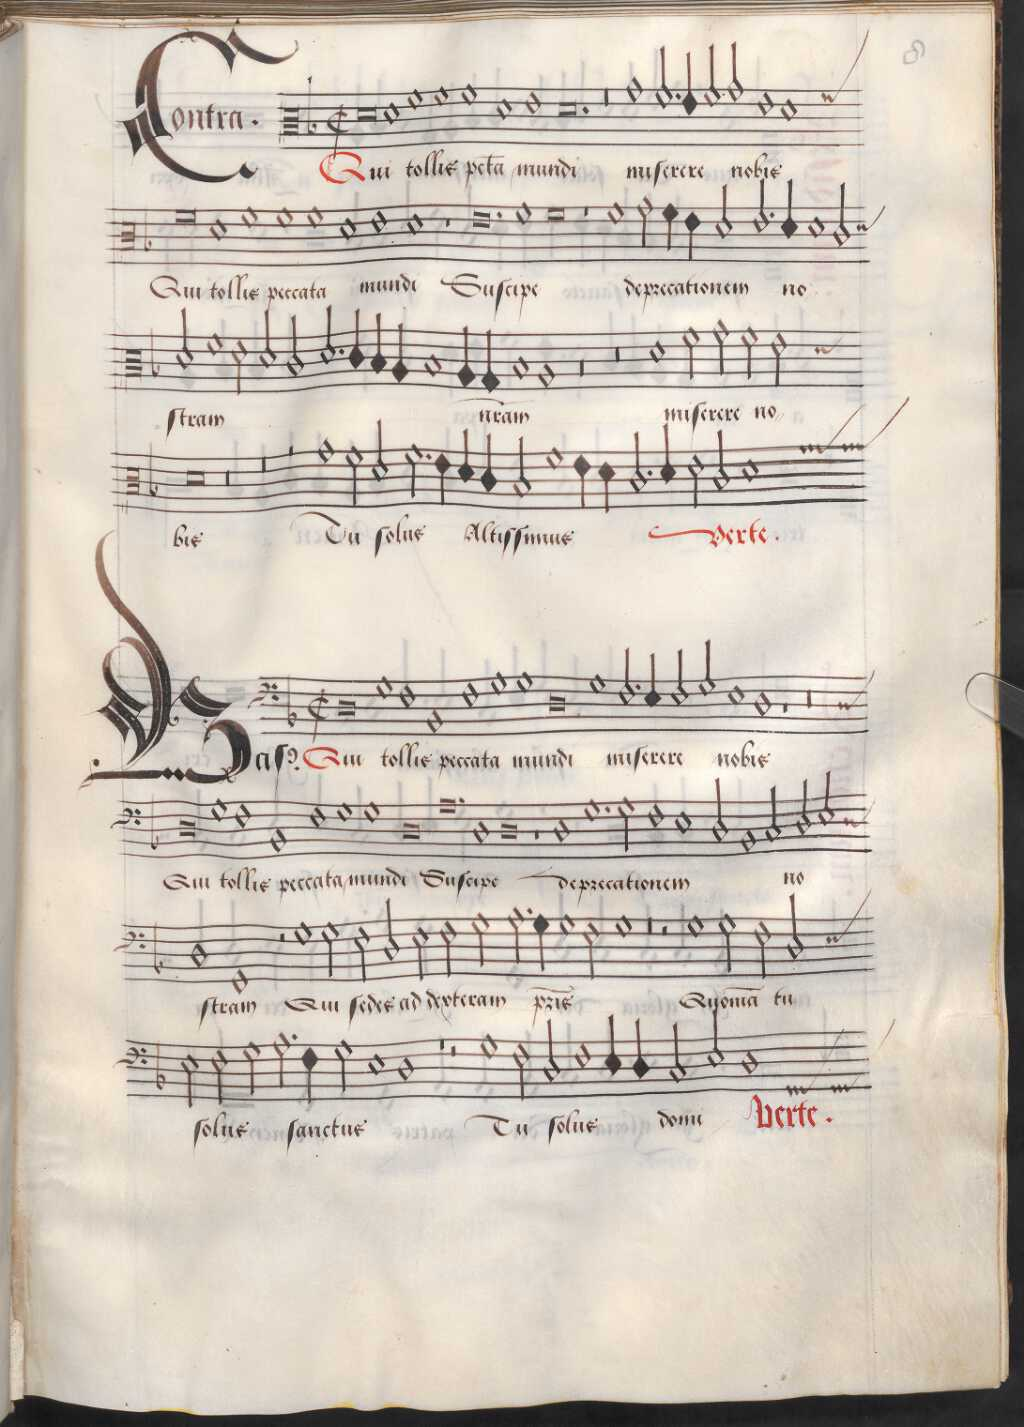custos_11: (825, 1055, 870, 1100), (780, 1053, 825, 1097)
f clef_5: (114, 1035, 152, 1077)
flat_9: (150, 1041, 170, 1099)
minim rest: (444, 1025, 461, 1102)
minim_3: (269, 1022, 291, 1095)
minim_4: (331, 1029, 355, 1099), (240, 1031, 263, 1103)
minim_5: (208, 1035, 231, 1110), (512, 1031, 532, 1105)
minim_6: (177, 1043, 199, 1113), (705, 1008, 727, 1072)
minim_7: (537, 1013, 563, 1090)
minim_8: (665, 1017, 688, 1090)
point: (287, 1026, 301, 1046)
semibreve rest: (432, 1025, 448, 1099)
semibreve_4: (474, 1022, 502, 1071)
semibreve_5: (571, 1031, 596, 1078)
semibreve_6: (363, 1043, 389, 1086)
semibreve_7: (736, 1040, 762, 1084), (393, 1048, 418, 1092)
semiminim_5: (298, 1033, 321, 1112)
semiminim_6: (602, 1008, 624, 1086)
semiminim_7: (629, 1014, 653, 1088)
